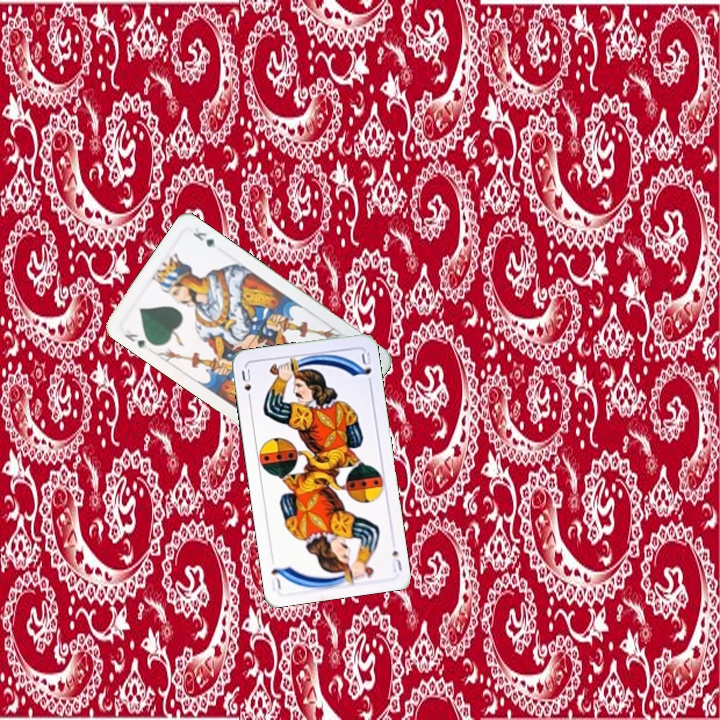GK: (120, 329, 150, 352)
SU: (237, 365, 254, 404), (387, 546, 405, 573)
